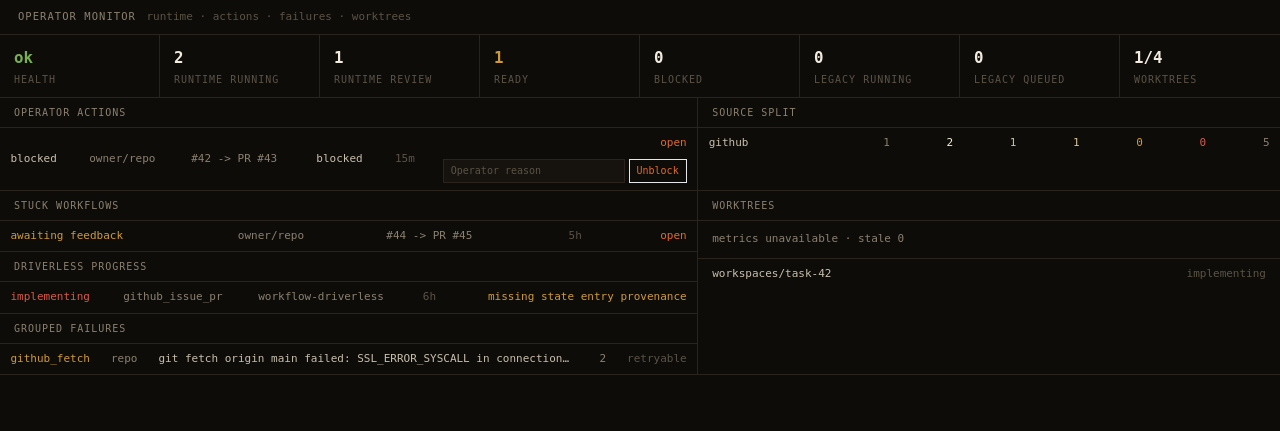
<OperatorMonitorPanel> › shows recovery failures instead of swallowing them
Type "Approval was posted" into the field named "Recovery reason for workflow-blocked". click: {"x": 534, "y": 171}
box: [443, 159, 625, 183]
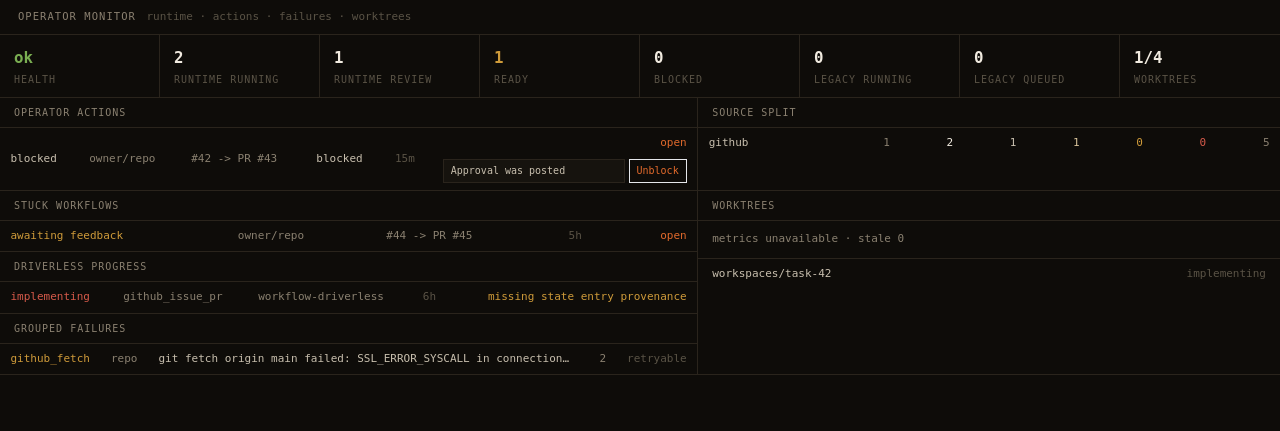
Click the button with aria-label "Unblock workflow workflow-blocked". click: {"x": 658, "y": 171}
box: [628, 159, 687, 183]
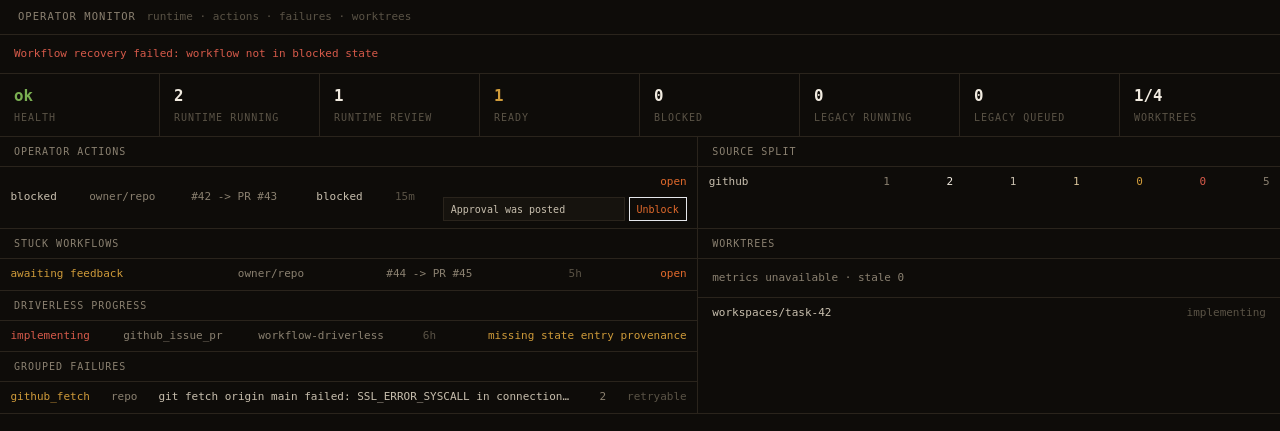
Expected: the button with aria-label "Unblock workflow workflow-blocked" is enabled, [628, 197, 687, 221]
Now the text "Workflow recovery failed: workflow not in blocked state" is shown, box [0, 35, 1279, 74]
